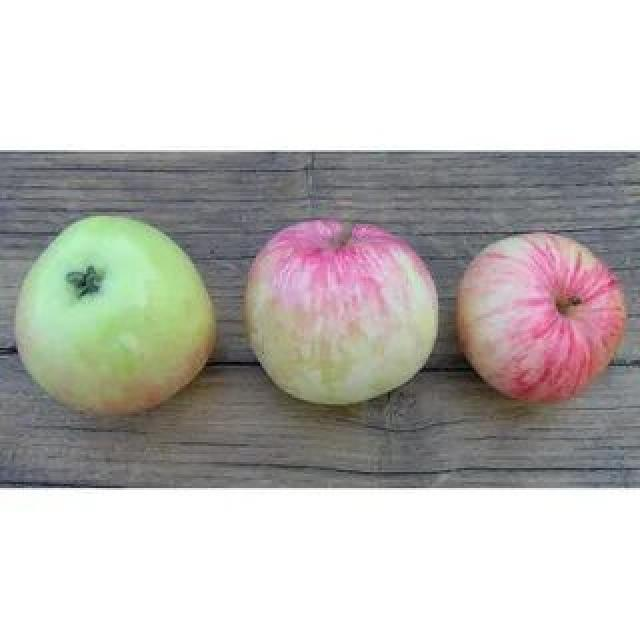Fresh Apple: (15, 215, 233, 417), (240, 220, 438, 402), (465, 235, 628, 398)
